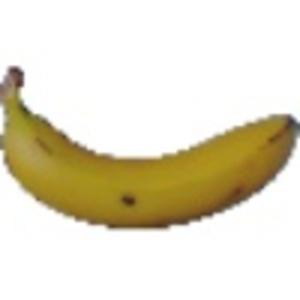banana: (5, 61, 293, 230)
